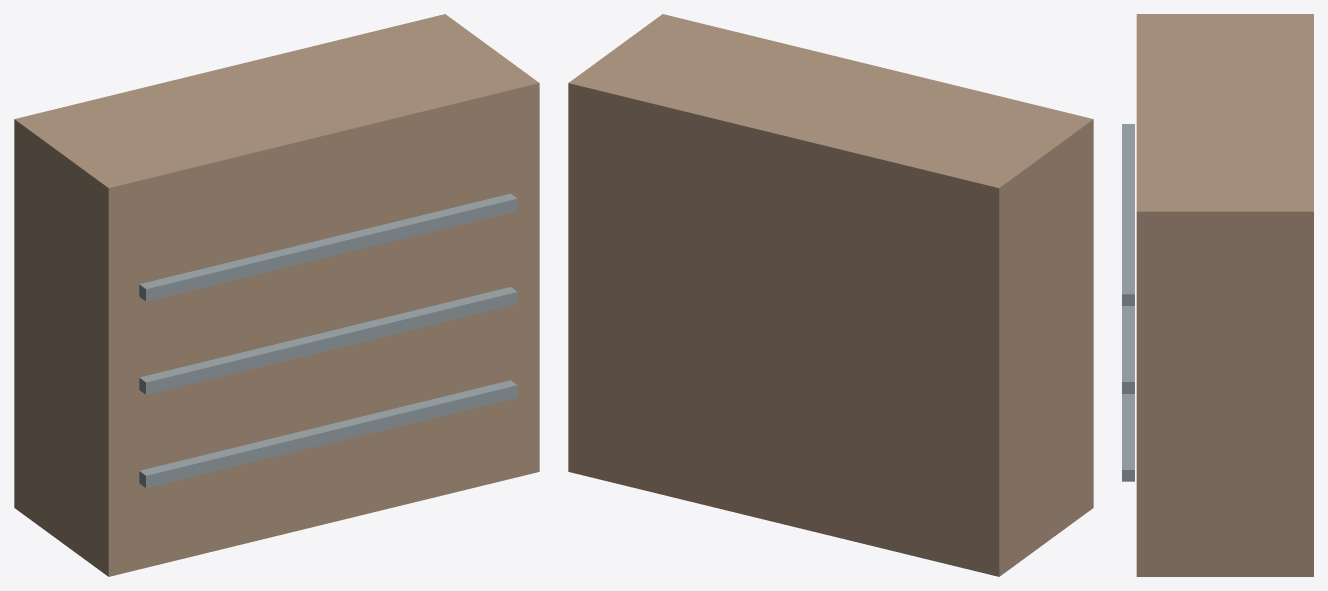
The model's file is dresser_basic.glb.
3 renders of one model, left to right at view 1: azimuth 30°, elevation 25°; view 2: azimuth 150°, elevation 25°; view 3: azimuth 270°, elevation 25°, orthographic. The views are drawn at different scales.
Parts seen in each view (by area): view 1: part_00, part_01, part_02, part_03; view 2: part_00; view 3: part_00, part_03, part_01, part_02.
Boxes of the visible parts, <box> form: part_00: <box>14,14,539,576</box>; part_01: <box>139,380,517,488</box>; part_02: <box>139,287,517,394</box>; part_03: <box>139,193,517,301</box>; part_00: <box>568,14,1093,576</box>; part_00: <box>1136,14,1313,576</box>; part_03: <box>1122,124,1134,305</box>; part_01: <box>1122,394,1134,481</box>; part_02: <box>1122,306,1134,393</box>.
Bounding box in the file's own units: 1.45 × 1.25 × 0.595.
